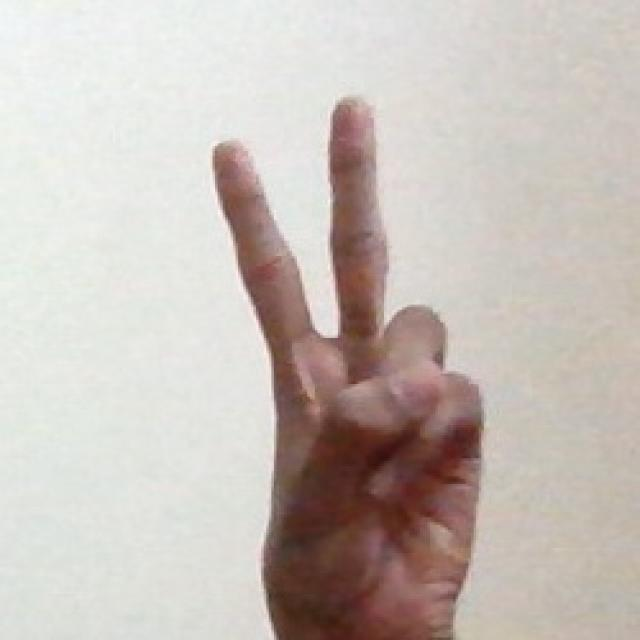Numeric-2: (212, 93, 483, 619)
